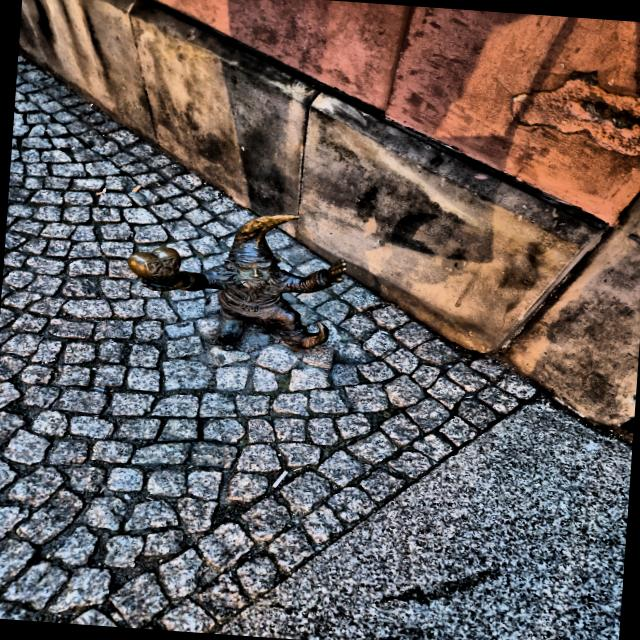WrocLovek: (123, 214, 354, 351)
